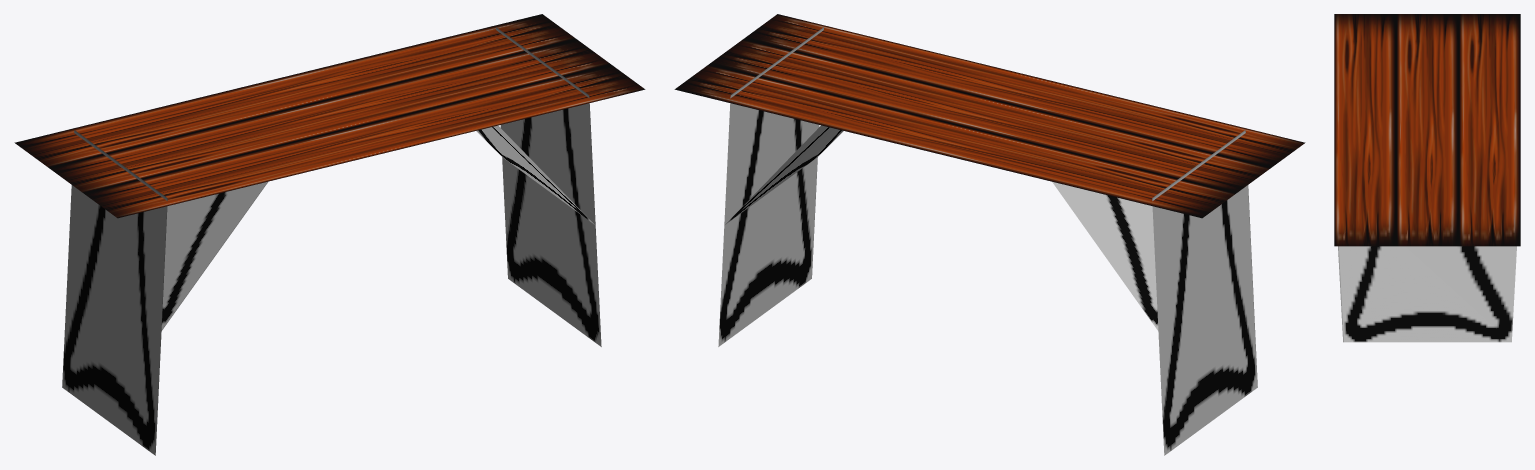
File: Klapptisch_1808.glb
The picture shows the model from 3 angles, left to right: view 1: azimuth 30°, elevation 25°; view 2: azimuth 150°, elevation 25°; view 3: azimuth 270°, elevation 25°; orthographic projection. The views are drawn at different scales.
Parts seen in each view (by area): view 1: pPlaneShape22, pPlaneShape23, pPlaneShape26, pPlaneShape25, pPlaneShape27; view 2: pPlaneShape22, pPlaneShape23, pPlaneShape26, pPlaneShape25, pPlaneShape27; view 3: pPlaneShape22, pPlaneShape27.
Boxes of the visible parts, x1,y1,x2,y2 form: pPlaneShape22: (14,14,645,218); pPlaneShape23: (62,130,167,455); pPlaneShape26: (496,27,601,346); pPlaneShape25: (161,181,267,330); pPlaneShape27: (476,125,594,224); pPlaneShape22: (674,14,1305,218); pPlaneShape23: (1152,130,1257,455); pPlaneShape26: (718,27,823,346); pPlaneShape25: (1052,181,1158,330); pPlaneShape27: (725,125,843,224); pPlaneShape22: (1334,14,1520,246); pPlaneShape27: (1338,246,1516,342).
Size of the model in its own units: 0.242 by 0.1116 by 0.0819.
5 materials, 5 textured.
